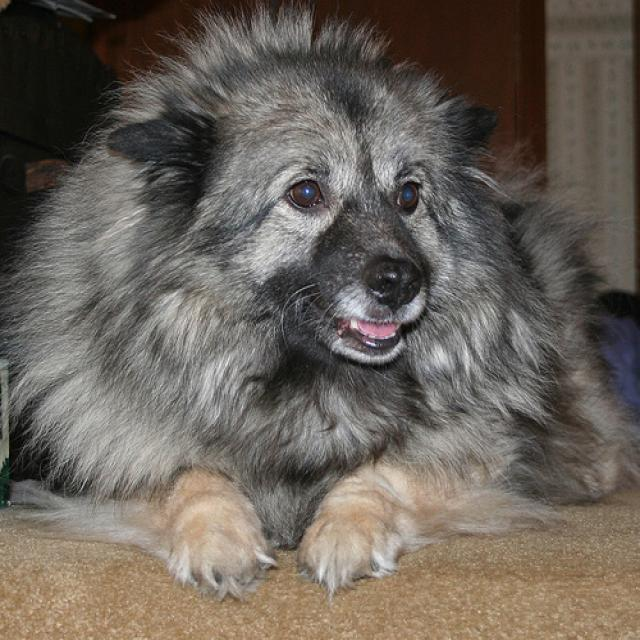dog-keeshond: (1, 1, 637, 629)
